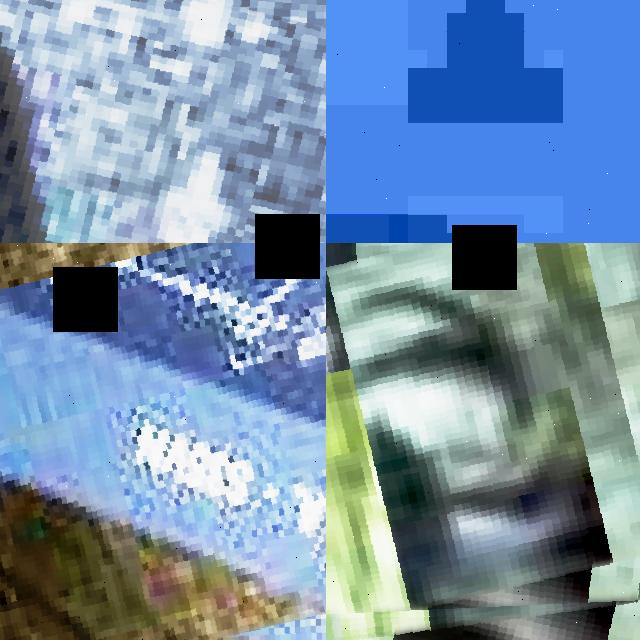arms: (0, 243, 326, 640), (326, 243, 640, 617), (326, 243, 640, 608), (326, 378, 640, 640), (0, 243, 206, 640), (0, 0, 326, 243)
